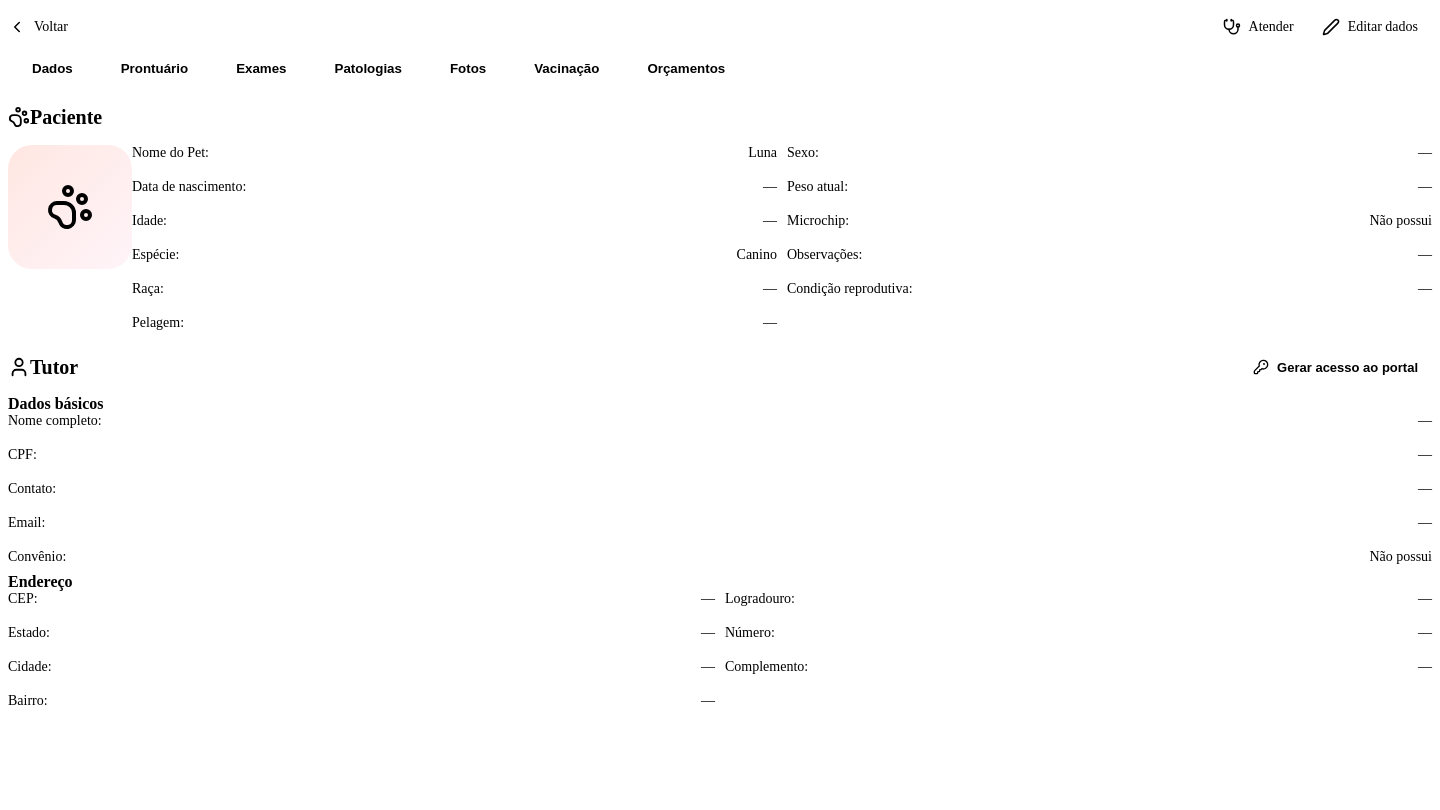
Scenario: PatientDetailsPage › avisa para cadastrar o CRMV e não cria atendimento sem ele
The width and height of the screenshot is (1440, 810).
Click the button "Atender". click: (1258, 27)
box: left=1208, top=8, right=1308, bottom=46
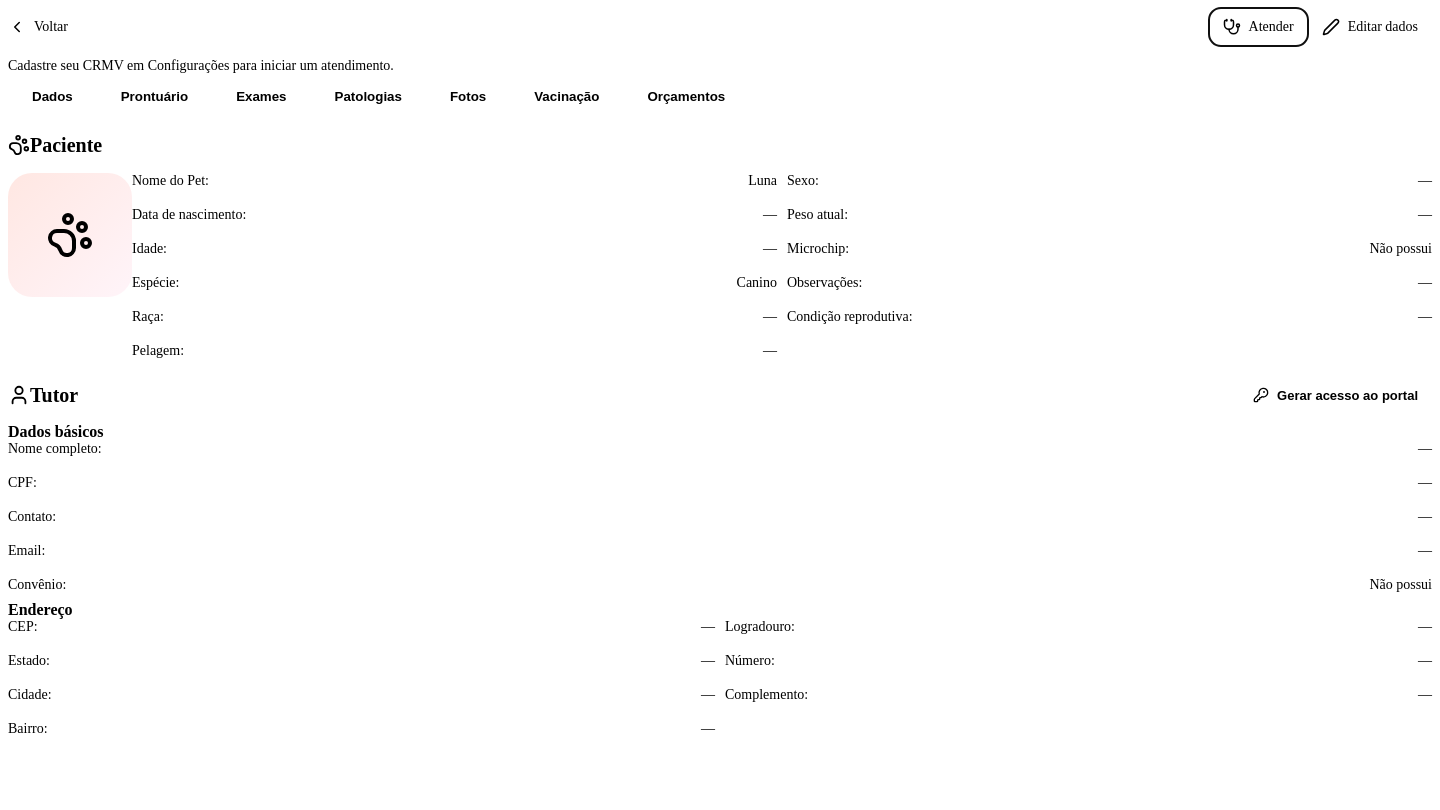
Check: the text "Cadastre seu CRMV" is shown, box left=8, top=58, right=394, bottom=73
